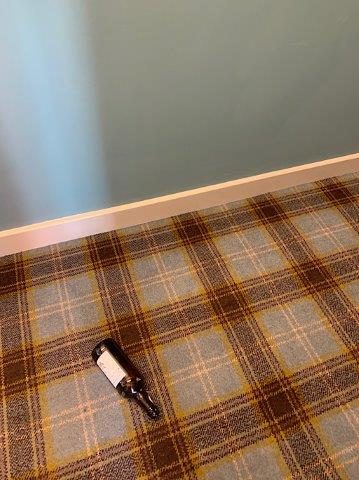botolkaca: (92, 338, 159, 418)
